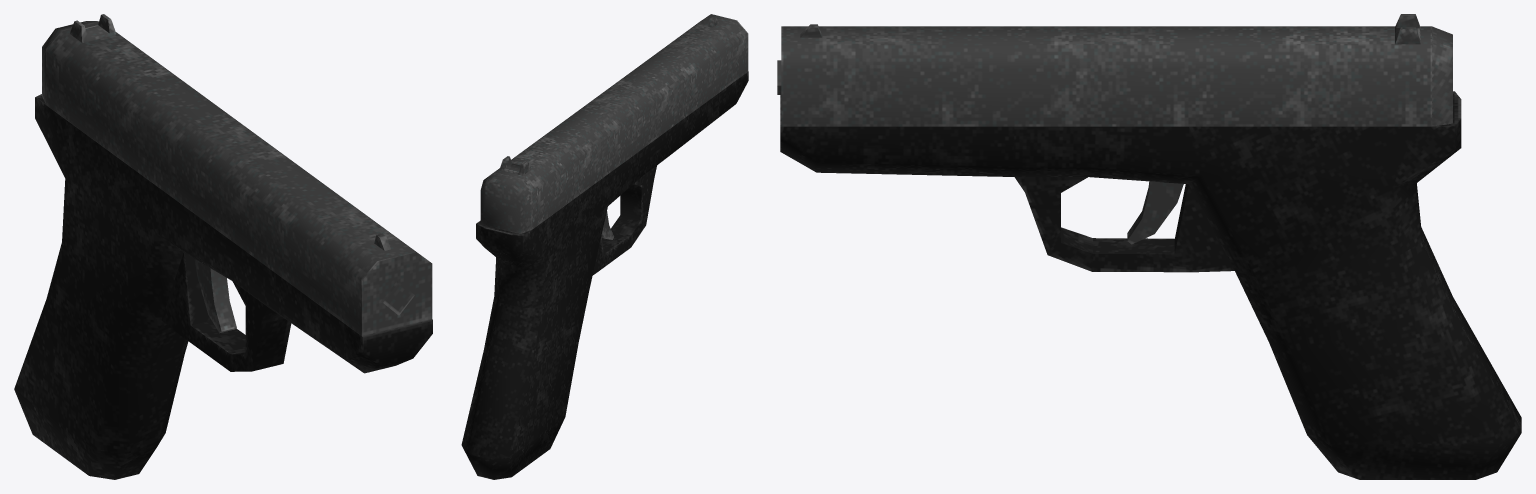
Rendered from glock.glb.
3 views of the same model, side by side, from view 1: azimuth 30°, elevation 25°; view 2: azimuth 150°, elevation 25°; view 3: azimuth 270°, elevation 25° (orthographic). The views are drawn at different scales.
Parts seen in each view (by area): view 1: glock; view 2: glock; view 3: glock.
Part boxes in pixels (<box>): glock: <box>14,14,432,479</box>; glock: <box>461,14,748,479</box>; glock: <box>777,14,1521,479</box>.
Size of the model in its own units: 0.0476 by 0.2793 by 0.4234.
1 material, 1 textured.
